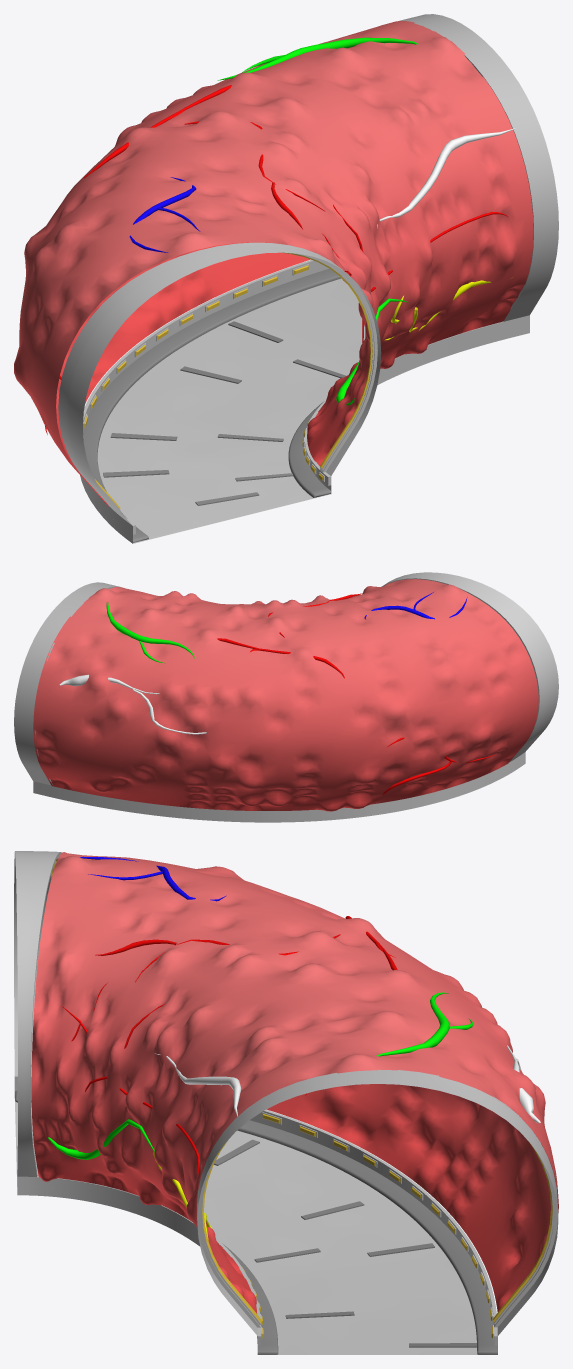
Rendered from Terowongan_1_kiri.fbx.
The picture shows the model from 3 angles, top to bottom: view 1: azimuth 30°, elevation 25°; view 2: azimuth 150°, elevation 25°; view 3: azimuth 270°, elevation 25°; orthographic projection. The views are drawn at different scales.
Visible parts, largest first — view 1: Terowongan 1_kiri; view 2: Terowongan 1_kiri; view 3: Terowongan 1_kiri.
Boxes of the visible parts, <box> form: Terowongan 1_kiri: <box>14,14,558,543</box>; Terowongan 1_kiri: <box>14,572,558,822</box>; Terowongan 1_kiri: <box>14,851,558,1354</box>.
Size of the model in its own units: 989 by 450 by 795.
Materials: 4 (4 with a texture image).
